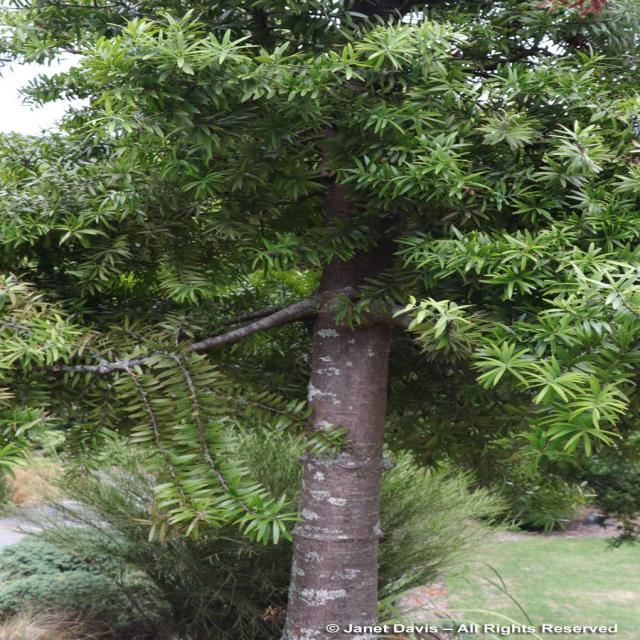Kauri: (16, 4, 640, 616)
